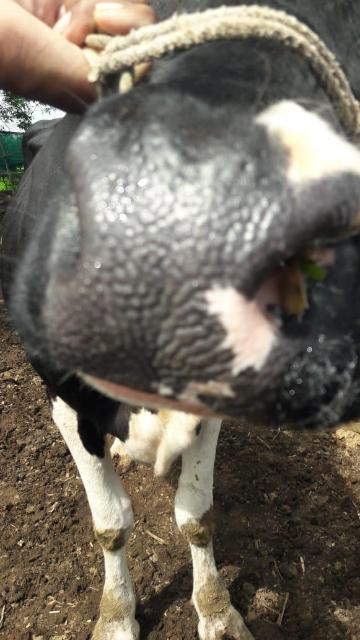Muzzle: (68, 130, 246, 384)
